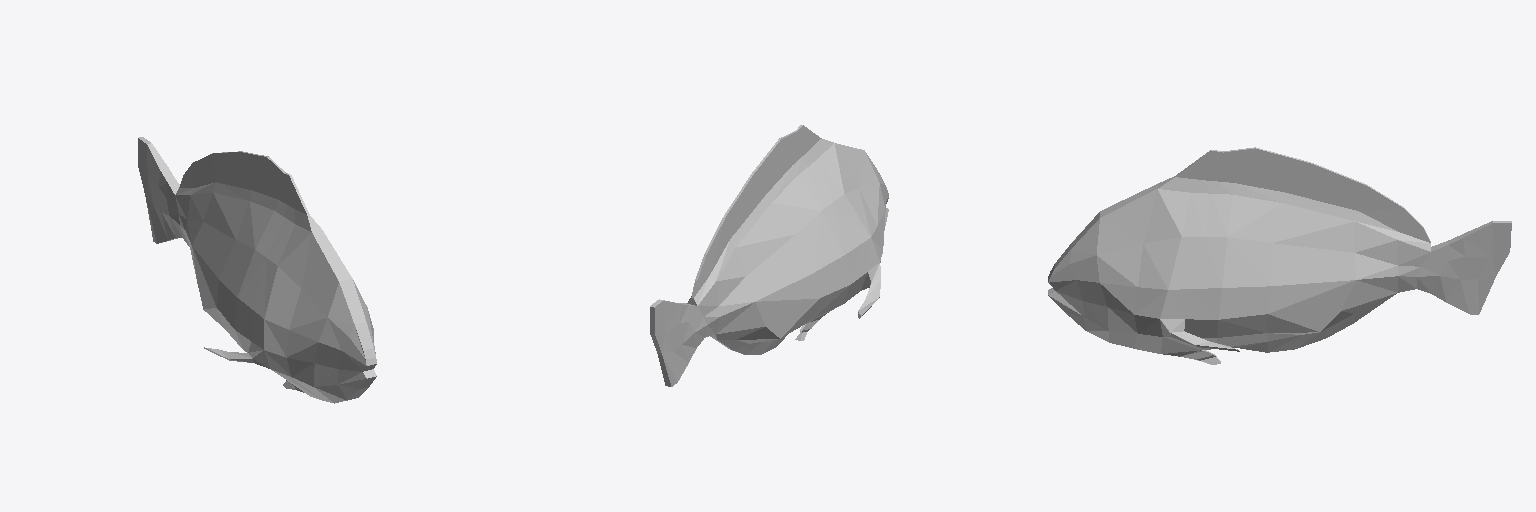
The model's file is Fish02.obj.
3 renders of one model, left to right at view 1: azimuth 30°, elevation 25°; view 2: azimuth 150°, elevation 25°; view 3: azimuth 270°, elevation 25°, orthographic.
Parts seen in each view (by area): view 1: TropicalFish02:TropicalFish02; view 2: TropicalFish02:TropicalFish02; view 3: TropicalFish02:TropicalFish02.
Boxes of the visible parts, x1,y1,x2,y2 form: TropicalFish02:TropicalFish02: [138, 137, 376, 403]; TropicalFish02:TropicalFish02: [650, 125, 888, 386]; TropicalFish02:TropicalFish02: [1048, 147, 1511, 364].
Size of the model in its own units: 16.46 by 23.49 by 45.68.